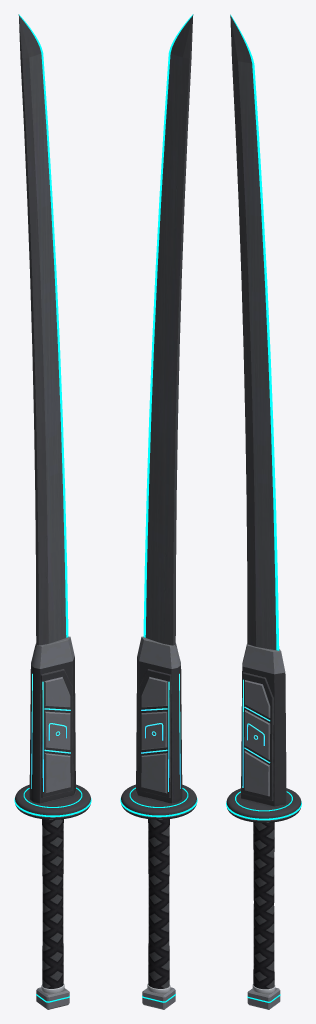
3 renders of one model, left to right at view 1: azimuth 30°, elevation 25°; view 2: azimuth 150°, elevation 25°; view 3: azimuth 330°, elevation 25°, orthographic.
Parts seen in each view (by area): view 1: kat_blade, kat_shin, kat_dark, kat_plate, kat_wrap, glow_kat_edge, glow_kat_line, glow_kat_rim; view 2: kat_blade, kat_shin, kat_dark, kat_plate, kat_wrap, glow_kat_edge, glow_kat_line, glow_kat_rim; view 3: kat_blade, kat_shin, kat_dark, kat_plate, kat_wrap, glow_kat_edge, glow_kat_rim, glow_kat_line.
Part boxes in pixels (x1=…): kat_blade: x1=29, y1=53, x2=66, y2=643; kat_shin: x1=18, y1=14, x2=48, y2=645; kat_dark: x1=15, y1=656, x2=90, y2=819; kat_plate: x1=31, y1=636, x2=74, y2=1009; kat_wrap: x1=42, y1=819, x2=63, y2=988; glow_kat_edge: x1=19, y1=14, x2=68, y2=637; glow_kat_line: x1=31, y1=673, x2=70, y2=791; glow_kat_rim: x1=14, y1=787, x2=91, y2=1002; kat_blade: x1=145, y1=53, x2=182, y2=643; kat_shin: x1=163, y1=14, x2=193, y2=645; kat_dark: x1=121, y1=656, x2=196, y2=819; kat_plate: x1=137, y1=636, x2=180, y2=1009; kat_wrap: x1=148, y1=819, x2=169, y2=988; glow_kat_edge: x1=143, y1=14, x2=192, y2=637; glow_kat_line: x1=141, y1=673, x2=180, y2=791; glow_kat_rim: x1=120, y1=787, x2=197, y2=1002; kat_blade: x1=238, y1=61, x2=276, y2=649; kat_shin: x1=230, y1=15, x2=255, y2=646; kat_dark: x1=226, y1=666, x2=301, y2=822; kat_plate: x1=242, y1=644, x2=285, y2=1009; kat_wrap: x1=253, y1=822, x2=274, y2=989; glow_kat_edge: x1=230, y1=14, x2=279, y2=650; glow_kat_rim: x1=226, y1=791, x2=301, y2=1002; glow_kat_line: x1=242, y1=679, x2=270, y2=787.
Bounding box in the file's own units: 0.1265 × 1.78 × 0.125.
9 materials, 6 textured.
